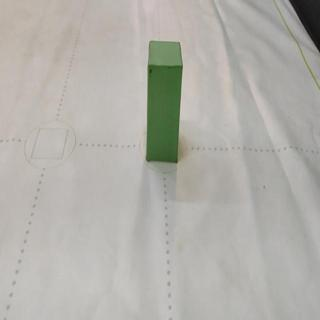greenbox: (143, 37, 184, 164)
